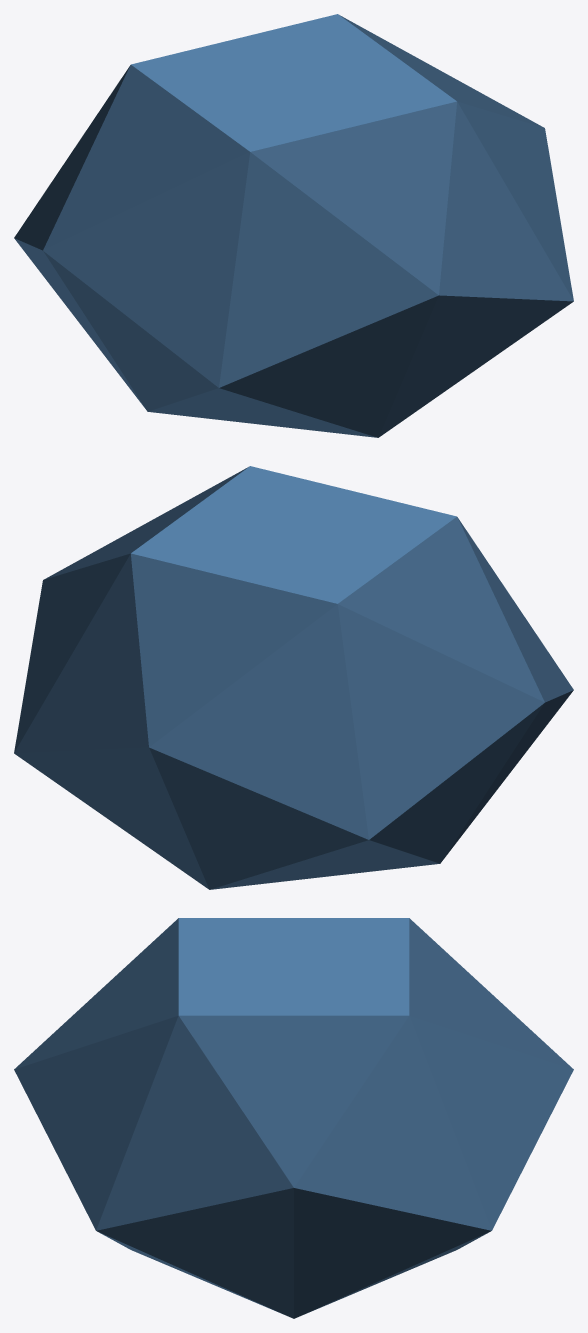
Rendered from J85.AntiprismaCuadradoRomo.gltf.
The picture shows the model from 3 angles, top to bottom: view 1: azimuth 30°, elevation 25°; view 2: azimuth 150°, elevation 25°; view 3: azimuth 270°, elevation 25°; orthographic projection. The views are drawn at different scales.
Parts seen in each view (by area): view 1: J85.AntiprismaCuadradoRomo; view 2: J85.AntiprismaCuadradoRomo; view 3: J85.AntiprismaCuadradoRomo.
Boxes of the visible parts, <box> form: J85.AntiprismaCuadradoRomo: <box>14,14,573,437</box>; J85.AntiprismaCuadradoRomo: <box>14,466,573,889</box>; J85.AntiprismaCuadradoRomo: <box>14,918,573,1318</box>.
Size of the model in its own units: 19.77 by 11.03 by 19.77.
